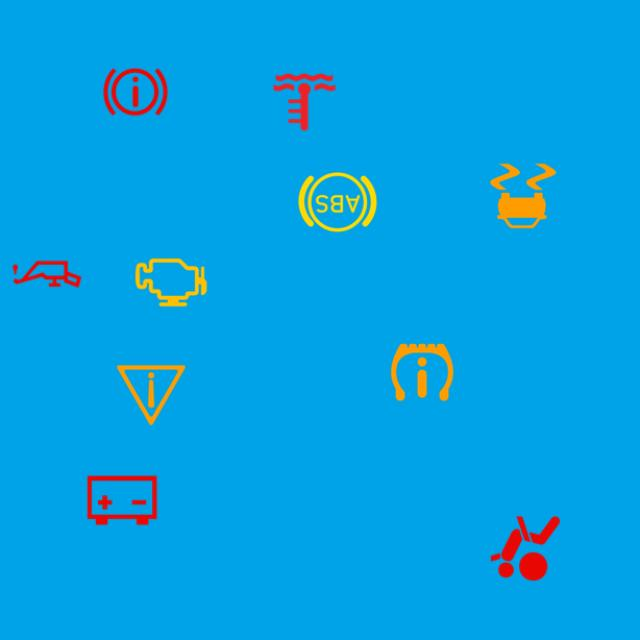Anti Lock Braking System: (295, 159, 380, 245)
Braking System Issue: (93, 49, 178, 134)
Charging System Issue: (79, 458, 165, 543)
Check Engine: (128, 240, 214, 325)
Electronic Stability Problem -ESP-: (481, 153, 566, 239)
Engine Overheating Warning Light: (262, 59, 347, 145)
Low Engine Oil Warning Light: (4, 231, 90, 317)
Low Tire Pressure Warning Light: (379, 329, 465, 415)
Master warning light: (108, 352, 194, 438)
SRS-Airbag: (483, 506, 568, 591)
